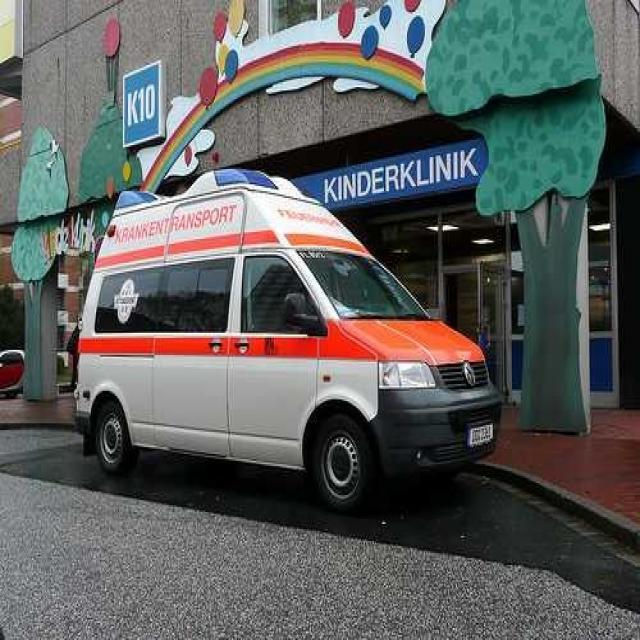emergency-vehicle: (74, 168, 493, 510)
